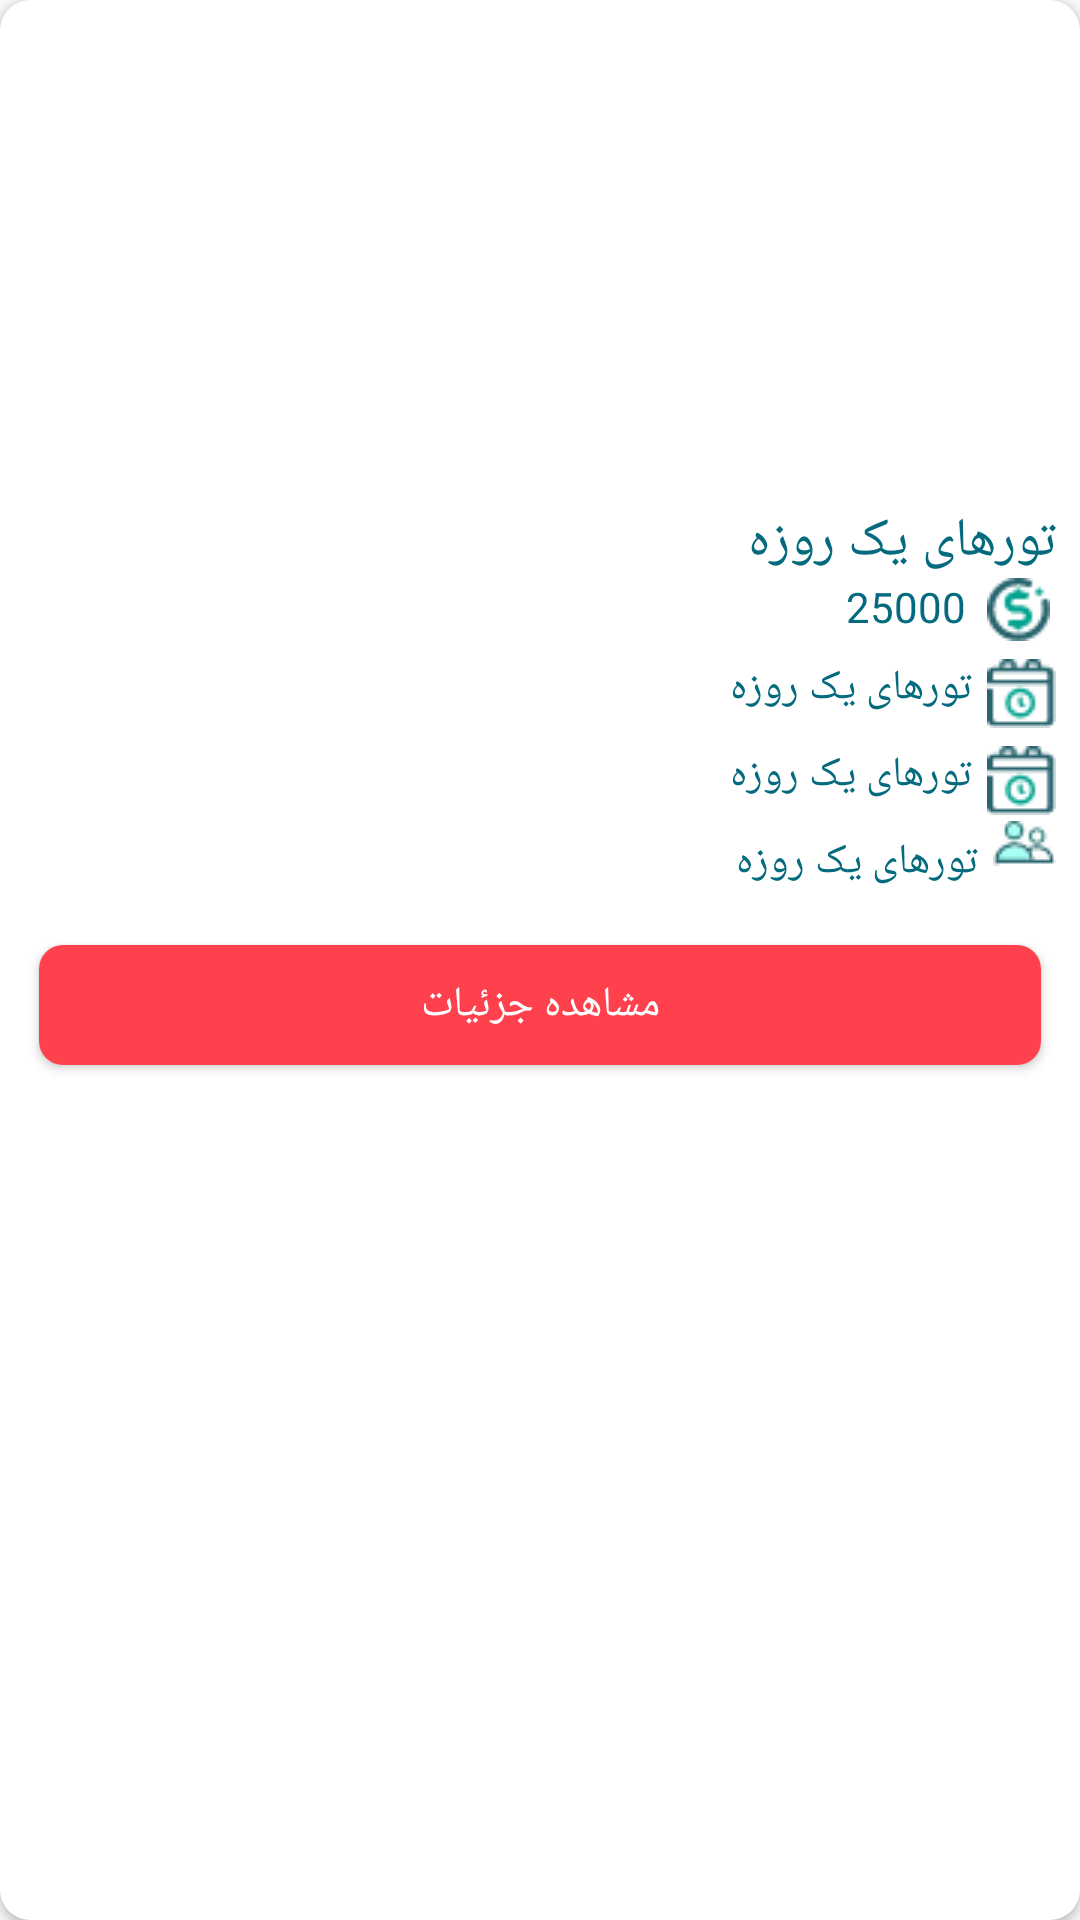

Screen size 1080w x 1920h. Icon name, then its box in pixels as [x1,y1,x2,y2]:
date: [987,659,1056,728], [987,746,1056,815]
money: [987,578,1050,641]
people: [993,821,1056,866]
